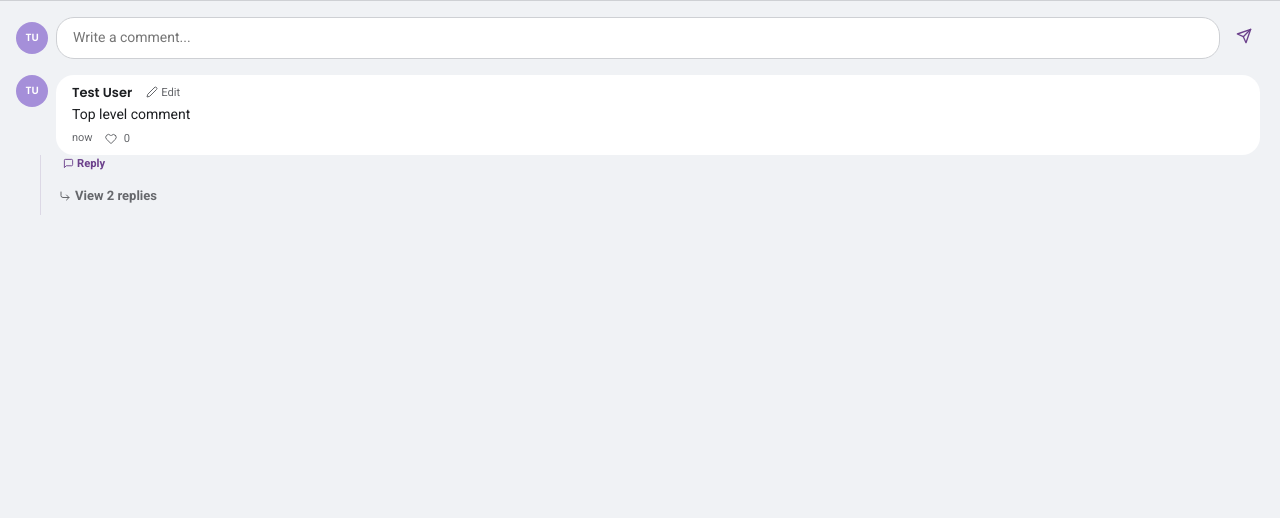
Test: CommentSection threads › loads replies and updates the thread count immediately after deleting a reply
Expected: the text "Top level comment" is shown, x1=72 y1=106 x2=190 y2=122
Click the button "View 2 replies" at (108, 196), box x1=51 y1=184 x2=165 y2=207
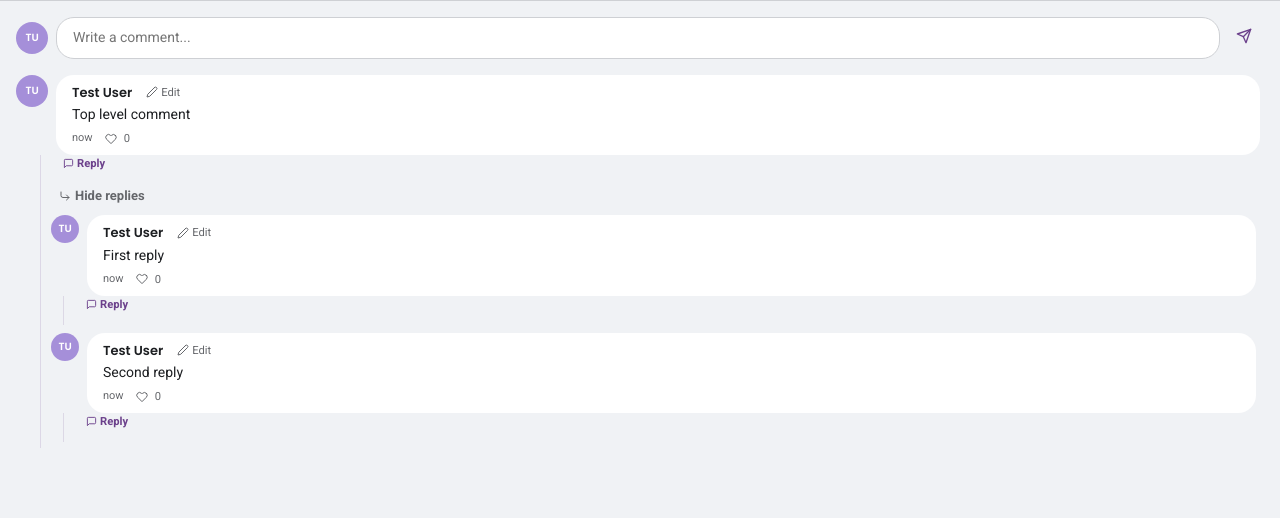
Result: the text "First reply" is shown at x1=103 y1=247 x2=164 y2=263
Result: the text "Second reply" is shown at x1=103 y1=364 x2=183 y2=380
Result: the element with id "comment-reply-1" is shown at x1=51 y1=215 x2=1256 y2=296
Click the 2nd button with class "comment-edit-trigger" at (194, 233), box x1=173 y1=224 x2=215 y2=241
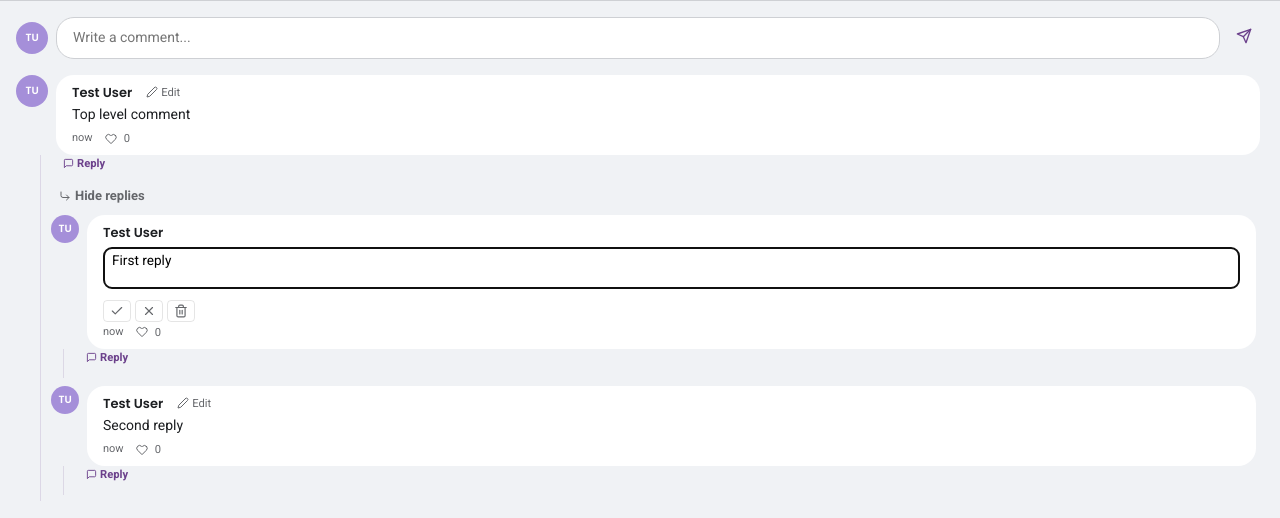
Result: the button with class "comment-delete-btn-inline" is shown
Click the button with class "comment-delete-btn-inline" at (181, 311), box x1=167 y1=300 x2=195 y2=322
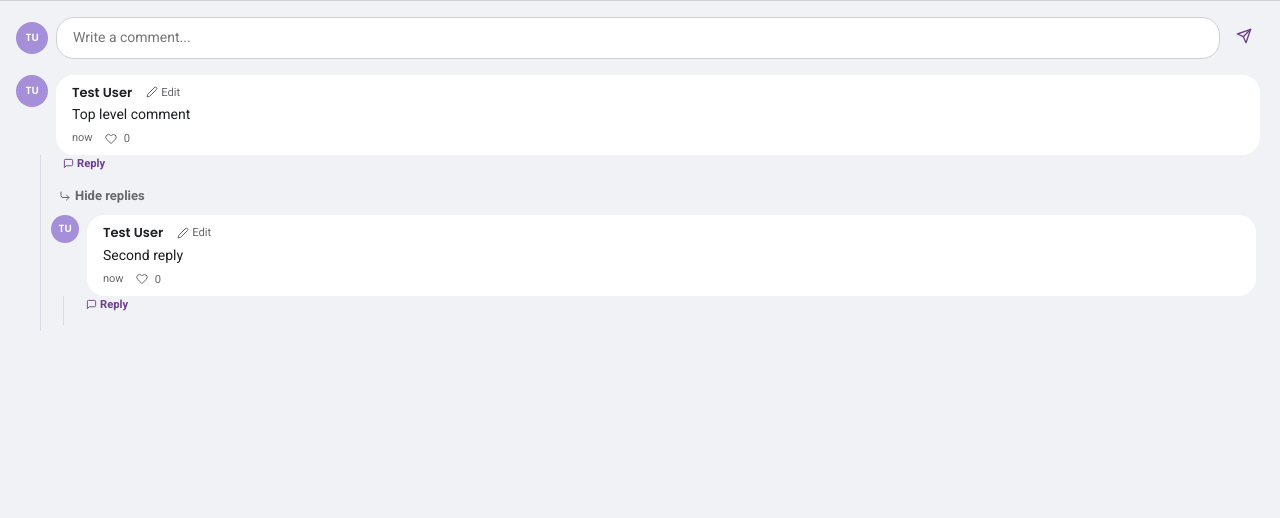
Expected: the text "First reply" is not shown
Click the button "Hide replies" at (102, 196), box x1=51 y1=184 x2=153 y2=207
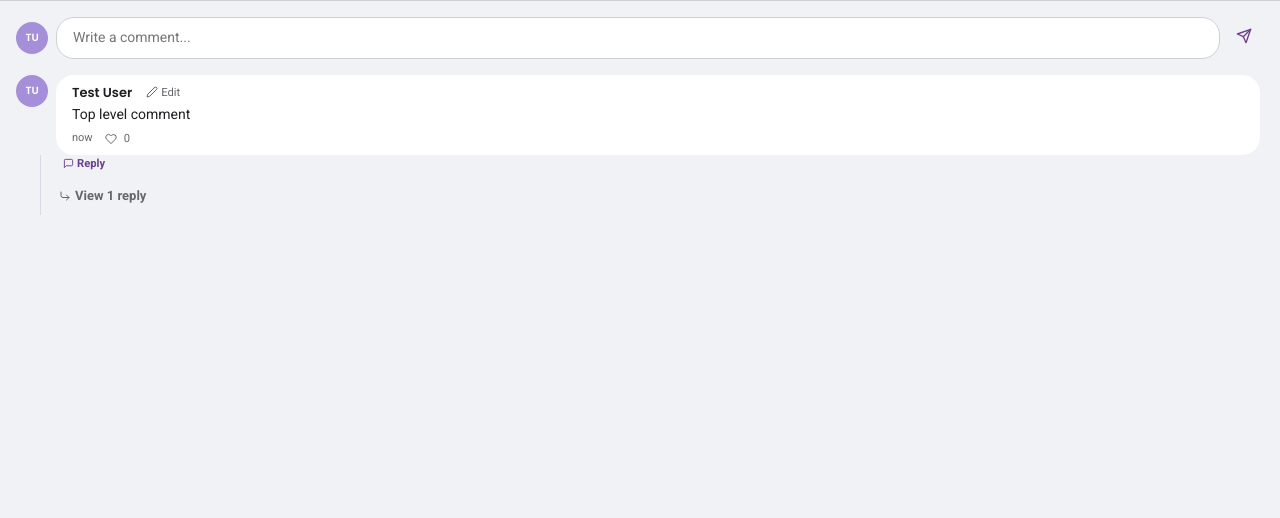
Result: the button "View 1 reply" is shown at x1=51 y1=184 x2=154 y2=207
